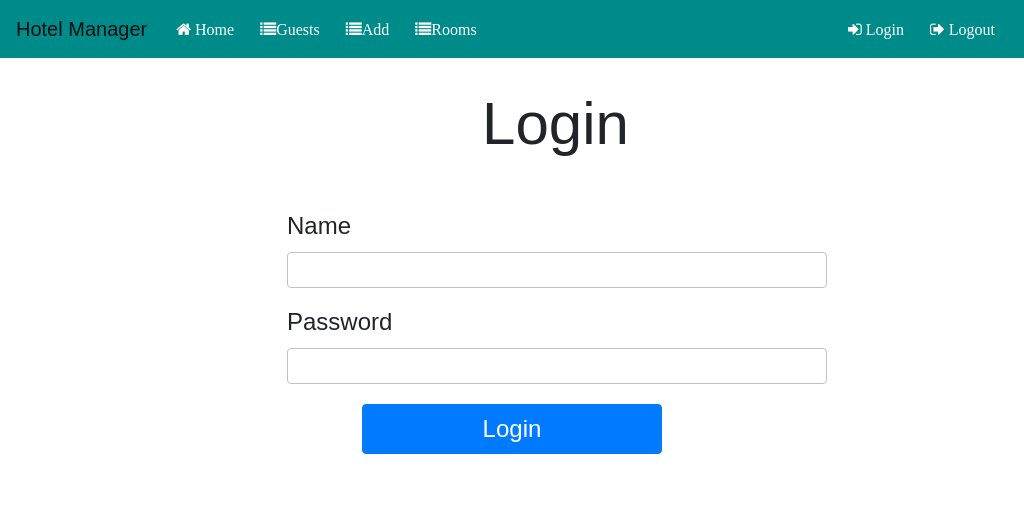
Test: add guest page › login user › With valid attributes › allows donation to be submitted
Note: Fill out web form
Type "Conor Rea" into the field with test id "user".
click(557, 270); type("Conor Rea")  # box 287,252 -> 827,288
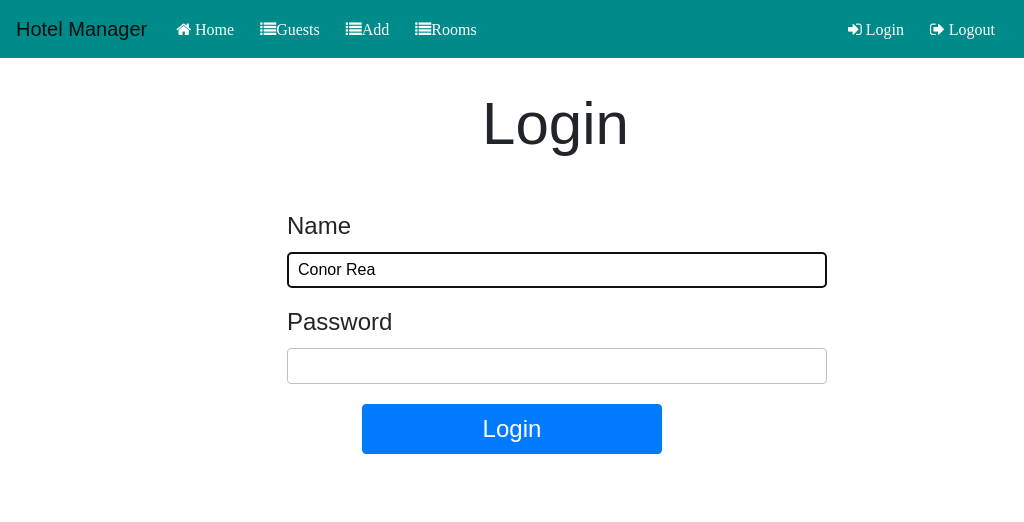
Type "1234" into the password field with test id "password".
click(557, 366); type("1234")  # box 287,348 -> 827,384
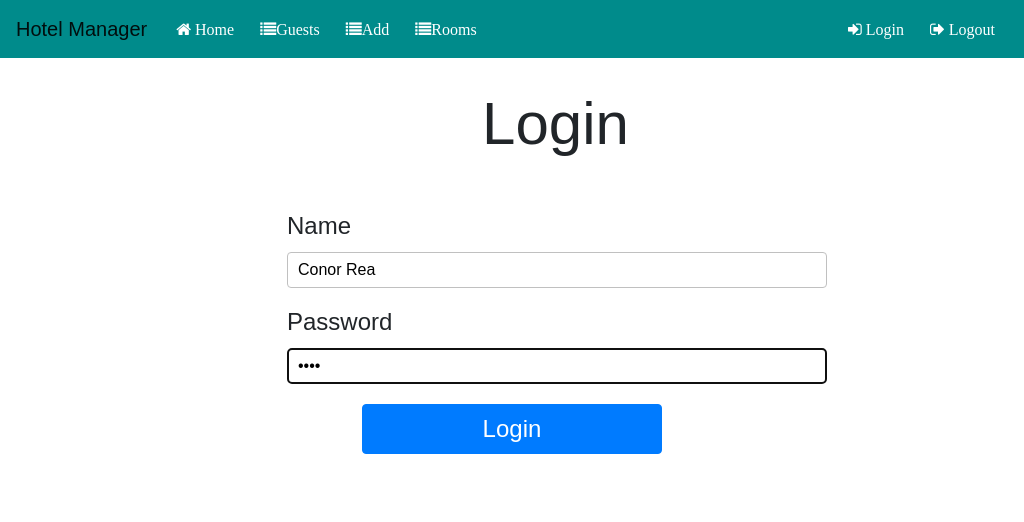
Expected: the text "Logged In!" is not shown
Click the submit button.
click(512, 429)  # box 362,404 -> 662,454
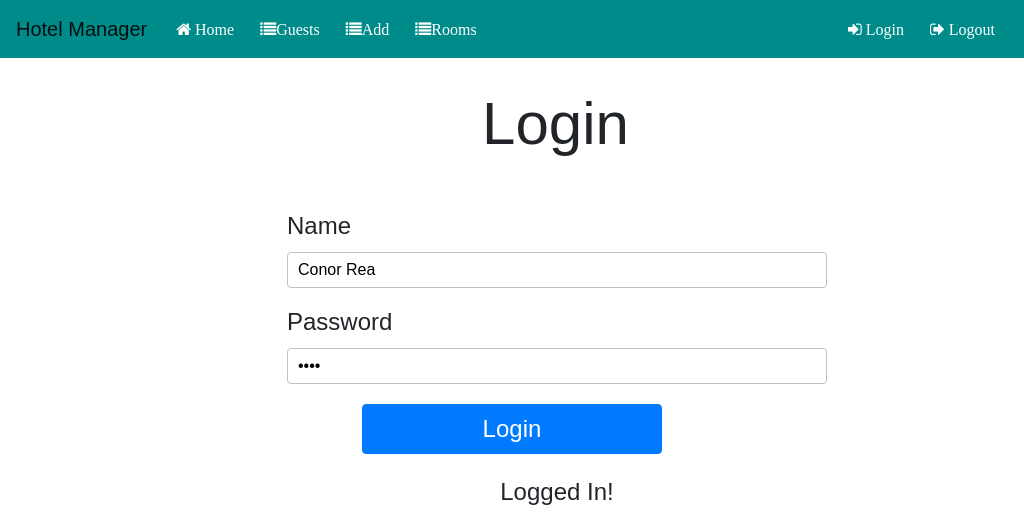
Result: the text "Logged In!" is shown at 500,478 -> 614,505
